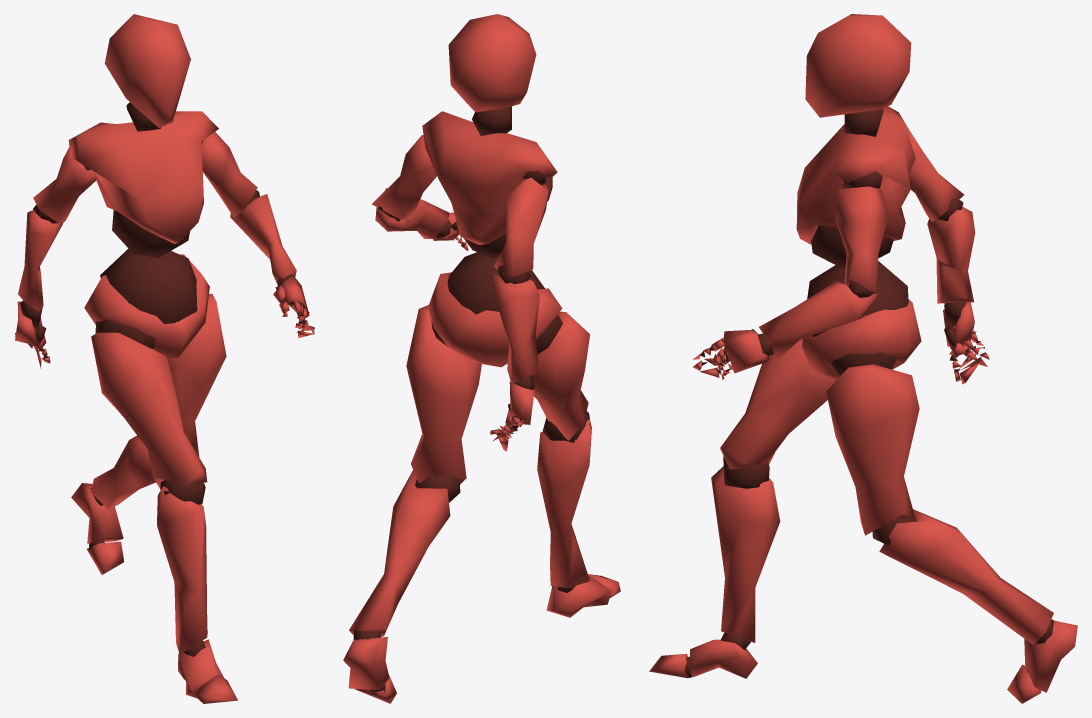
The picture shows the model from 3 angles, left to right: view 1: azimuth 30°, elevation 25°; view 2: azimuth 150°, elevation 25°; view 3: azimuth 270°, elevation 25°; orthographic projection. The views are drawn at different scales.
Visible parts, largest first — view 1: Beta_Surface; view 2: Beta_Surface; view 3: Beta_Surface.
Boxes of the visible parts, x1,y1,x2,y2 form: Beta_Surface: [15, 14, 314, 703]; Beta_Surface: [343, 14, 620, 703]; Beta_Surface: [649, 14, 1077, 703].
Bounding box in the file's own units: 4.8 × 14.08 × 8.2.
